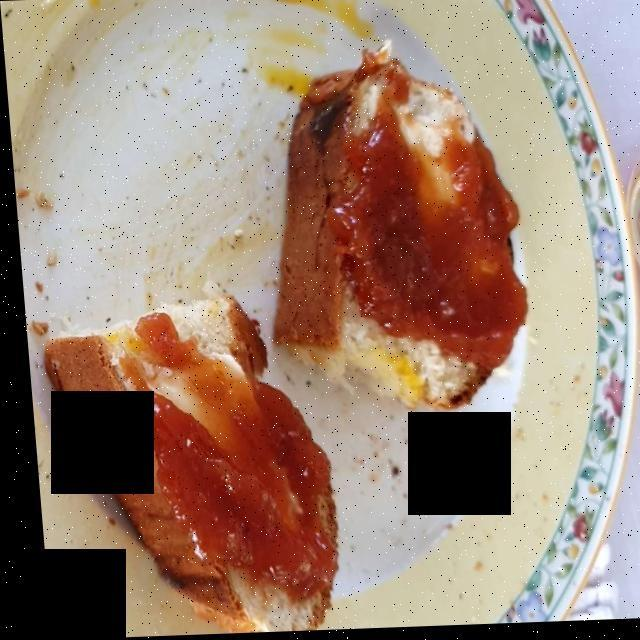bread: (66, 54, 500, 612)
jam: (123, 120, 524, 603)
